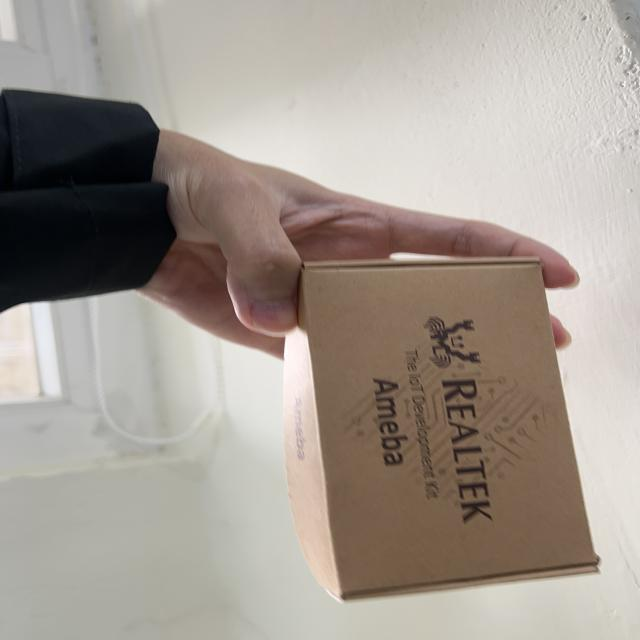box: (246, 232, 640, 613)
